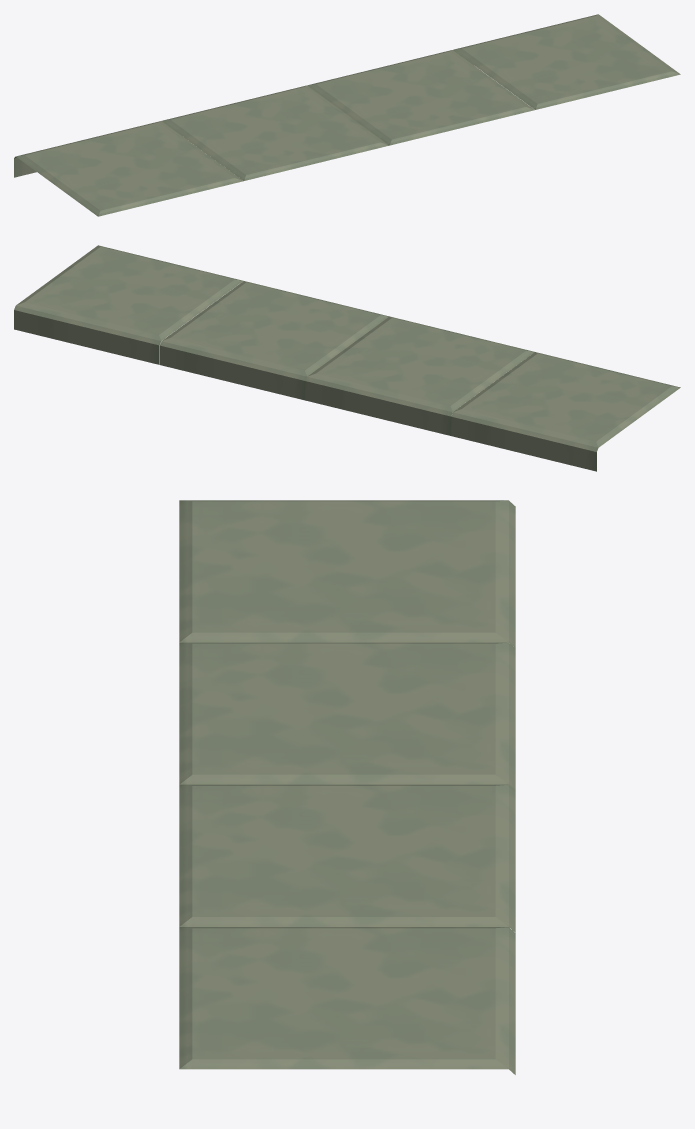
Rendered from SideWalkTiles.fbx.
3 views of the same model, one above another, from view 1: azimuth 30°, elevation 25°; view 2: azimuth 150°, elevation 25°; view 3: azimuth 270°, elevation 25° (orthographic). The views are drawn at different scales.
Visible parts, largest first — view 1: SidewalkStraight; view 2: SidewalkStraight; view 3: SidewalkStraight.
Part boxes in pixels (x1,y1,x2,y2): SidewalkStraight: (14,14,680,216); SidewalkStraight: (14,245,680,471); SidewalkStraight: (179,500,515,1074).
Size of the model in its own units: 32.62 by 800 by 200.
